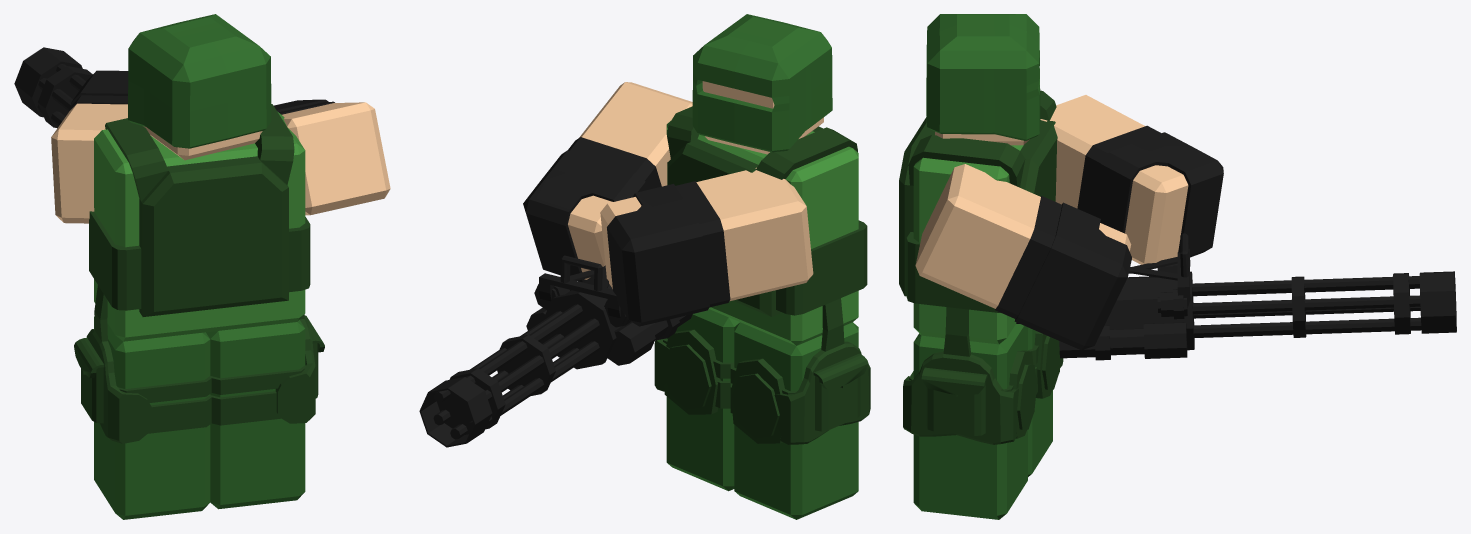
3 renders of one model, left to right at view 1: azimuth 30°, elevation 25°; view 2: azimuth 150°, elevation 25°; view 3: azimuth 270°, elevation 25°, orthographic. The views are drawn at different scales.
Parts seen in each view (by area): view 1: SWAT.Torso, SWAT.Legs, SWAT.Arm_R, SWAT.Arm_L; view 2: SWAT.Torso, SWAT.Legs, SWAT.Arm_R, SWAT.Arm_L; view 3: SWAT.Arm_R, SWAT.Torso, SWAT.Legs, SWAT.Arm_L.
Boxes of the visible parts, <box> form: SWAT.Torso: <box>89,14,310,341</box>; SWAT.Legs: <box>74,285,324,519</box>; SWAT.Arm_R: <box>14,47,390,215</box>; SWAT.Arm_L: <box>51,70,128,223</box>; SWAT.Torso: <box>666,14,867,345</box>; SWAT.Legs: <box>654,298,870,519</box>; SWAT.Arm_R: <box>419,82,692,447</box>; SWAT.Arm_L: <box>600,167,813,326</box>; SWAT.Arm_R: <box>915,164,1456,360</box>; SWAT.Torso: <box>899,14,1057,344</box>; SWAT.Legs: <box>903,307,1063,519</box>; SWAT.Arm_L: <box>1040,95,1223,264</box>.
Bounding box in the file's own units: 336 × 518 × 576.
